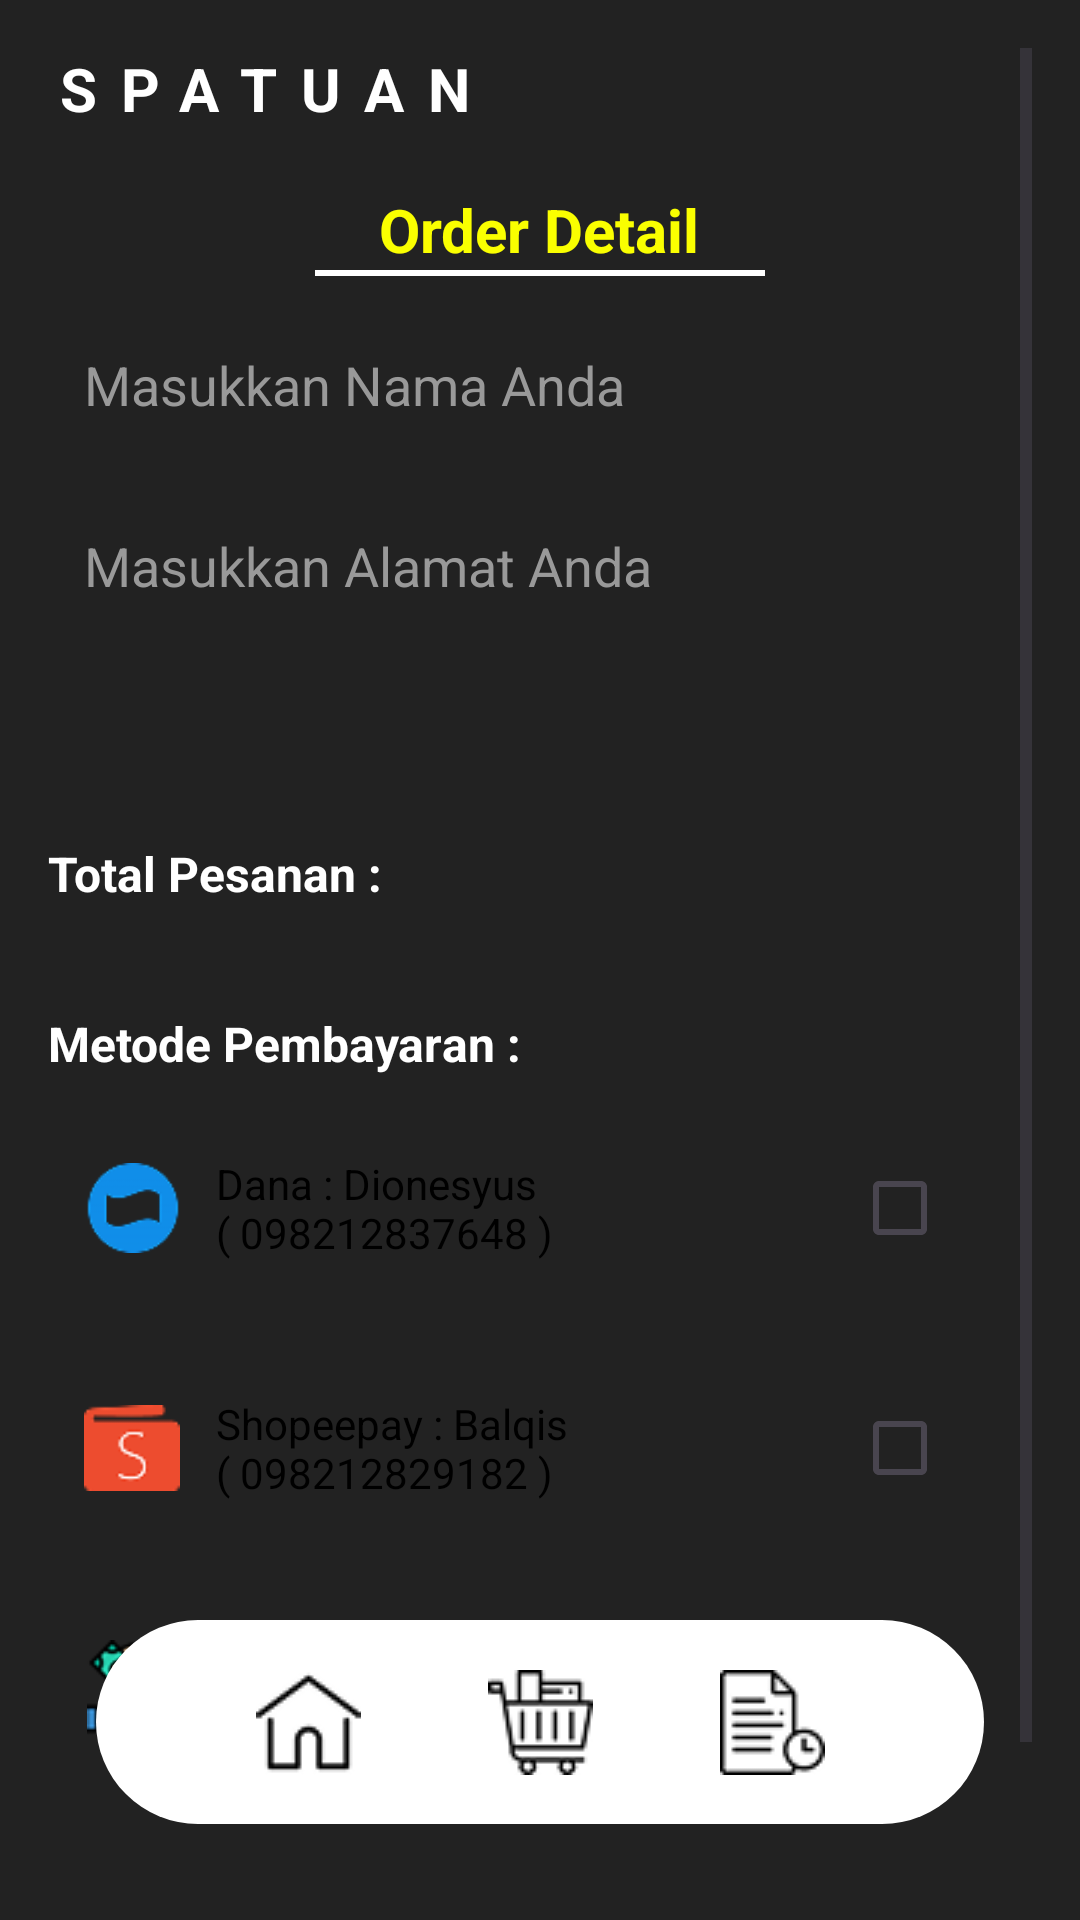

Icon bounding boxes for this 1080 x 1920 phone screenshot, format (x1, y1, x2, y2):
histori: (720, 1670, 825, 1775)
home: (256, 1675, 361, 1771)
keranjang: (488, 1670, 593, 1775)
